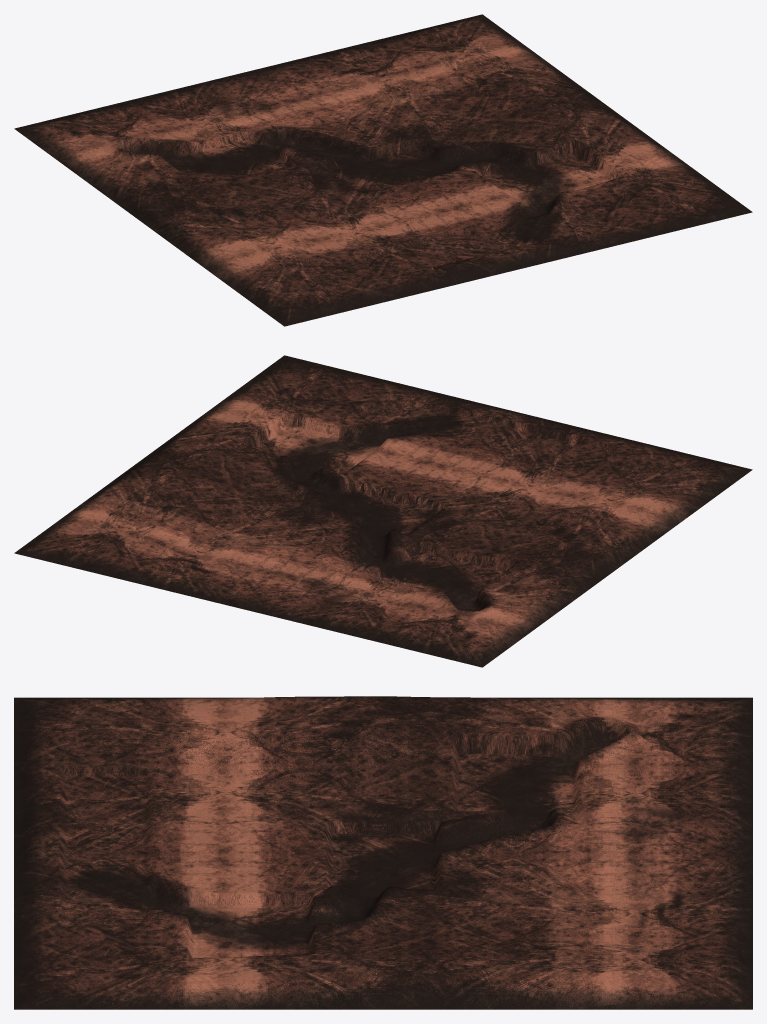
The model's file is old-canal-terrain.glb.
3 renders of one model, top to bottom at view 1: azimuth 30°, elevation 25°; view 2: azimuth 150°, elevation 25°; view 3: azimuth 270°, elevation 25°, orthographic. The views are drawn at different scales.
Visible parts, largest first — view 1: OldCanalTerrain; view 2: OldCanalTerrain; view 3: OldCanalTerrain.
Boxes of the visible parts, x1=… form: OldCanalTerrain: x1=14, y1=14, x2=752, y2=326; OldCanalTerrain: x1=14, y1=355, x2=752, y2=667; OldCanalTerrain: x1=14, y1=696, x2=752, y2=1009.
Size of the model in its own units: 128 by 4.33 by 128.
1 material, 1 textured.
